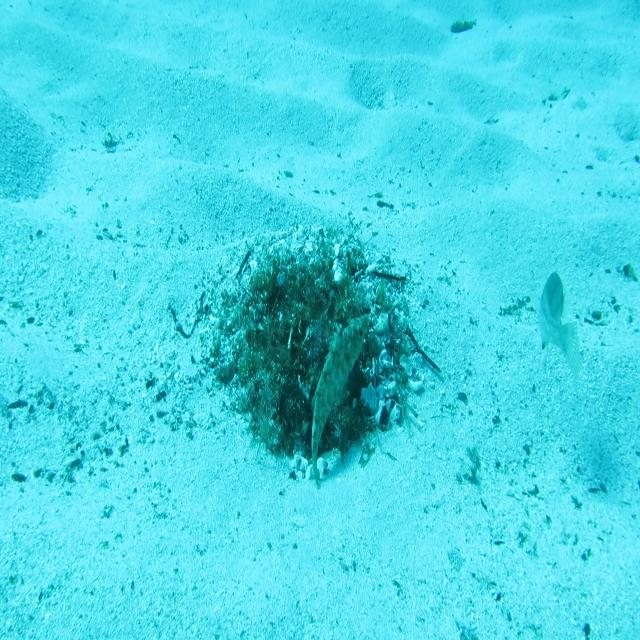LF: (310, 305, 372, 494)
core_nest: (280, 279, 334, 313)
female: (535, 270, 584, 385)
nest: (197, 214, 435, 496)
vegetation: (447, 18, 477, 38)
